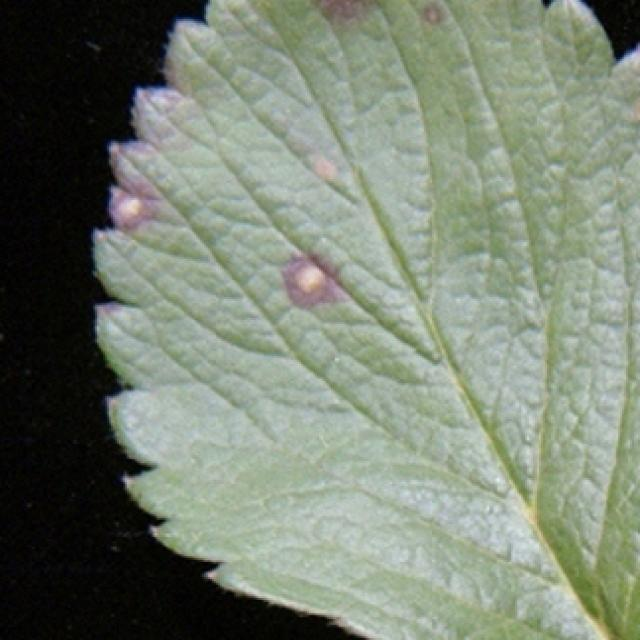Leaf Spot: (92, 0, 640, 640)
